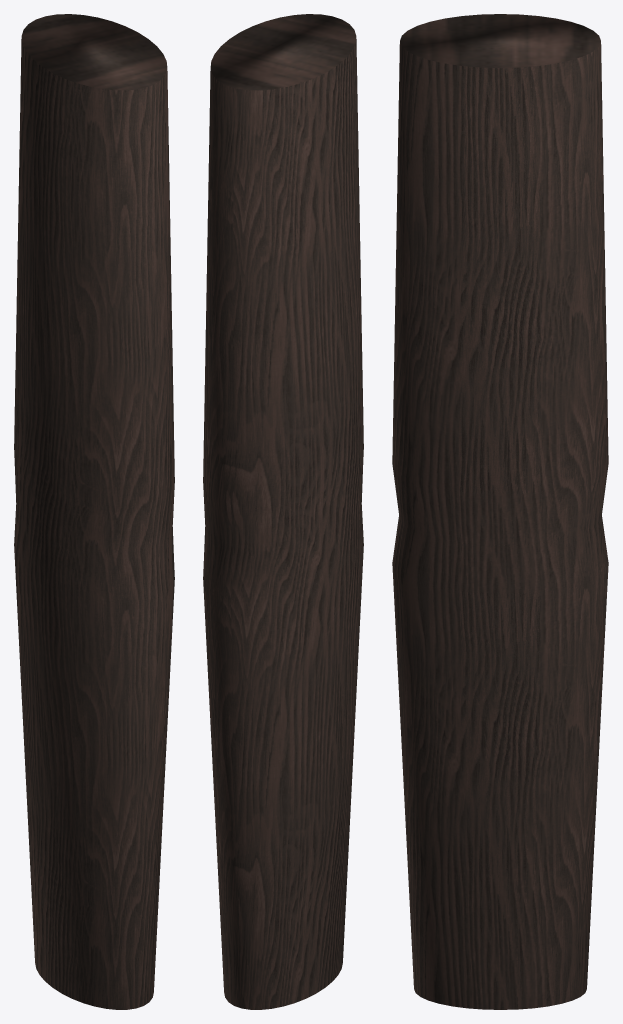
File: dungeon sword newest 3.fbx
The picture shows the model from 3 angles, left to right: view 1: azimuth 30°, elevation 25°; view 2: azimuth 150°, elevation 25°; view 3: azimuth 270°, elevation 25°; orthographic projection. The views are drawn at different scales.
Parts seen in each view (by area): view 1: grip.001; view 2: grip.001; view 3: grip.001.
Boxes of the visible parts, left/top/right/bottom form: grip.001: left=14, top=14, right=174, bottom=1009; grip.001: left=203, top=14, right=363, bottom=1009; grip.001: left=392, top=14, right=608, bottom=1009.
Bounding box in the file's own units: 40 × 290 × 60.
Materials: 1 (1 with a texture image).
